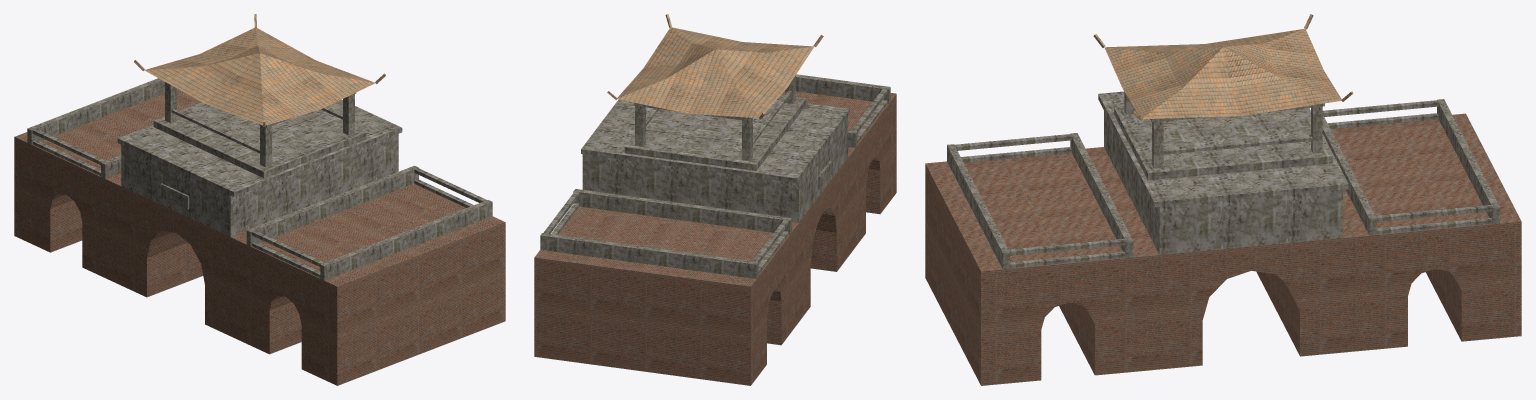
Rendered from o_quan_chuong_lod2.glb.
3 renders of one model, left to right at view 1: azimuth 30°, elevation 25°; view 2: azimuth 150°, elevation 25°; view 3: azimuth 270°, elevation 25°, orthographic. The views are drawn at different scales.
Parts seen in each view (by area): view 1: brickwork, plaster, roof; view 2: brickwork, plaster, roof; view 3: brickwork, plaster, roof.
Boxes of the visible parts, x1=… form: brickwork: x1=14, y1=89, x2=505, y2=385; plaster: x1=27, y1=78, x2=492, y2=280; roof: x1=134, y1=14, x2=385, y2=126; brickwork: x1=534, y1=91, x2=896, y2=385; plaster: x1=540, y1=74, x2=890, y2=278; roof: x1=607, y1=14, x2=823, y2=119; brickwork: x1=925, y1=113, x2=1521, y2=385; plaster: x1=947, y1=91, x2=1499, y2=269; roof: x1=1093, y1=14, x2=1353, y2=120.
Bounding box in the file's own units: 11.26 × 8.64 × 17.96.
Materials: 3 (3 with a texture image).
